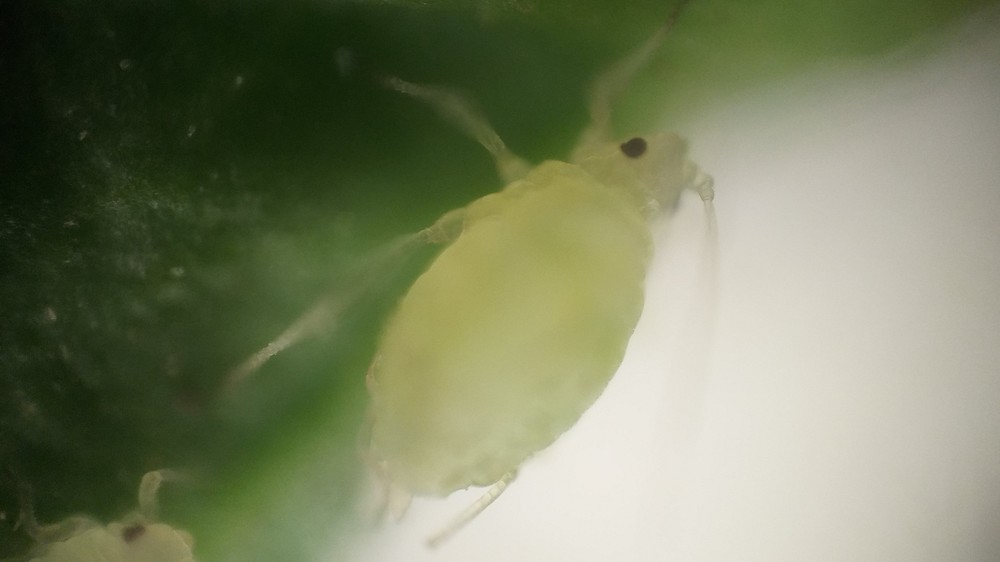Pulgon: (242, 5, 737, 562)
